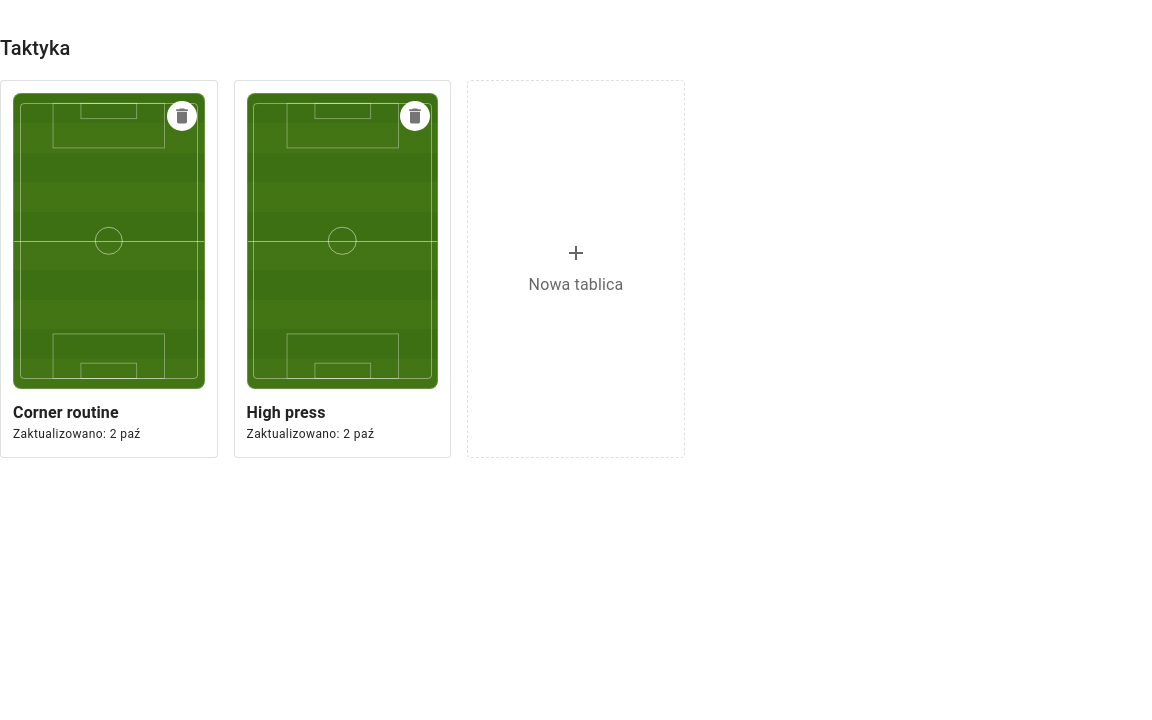
Test case: opening a board › opens the editor for the board
Click the text "High press" at (286, 412), box [247, 403, 326, 422]
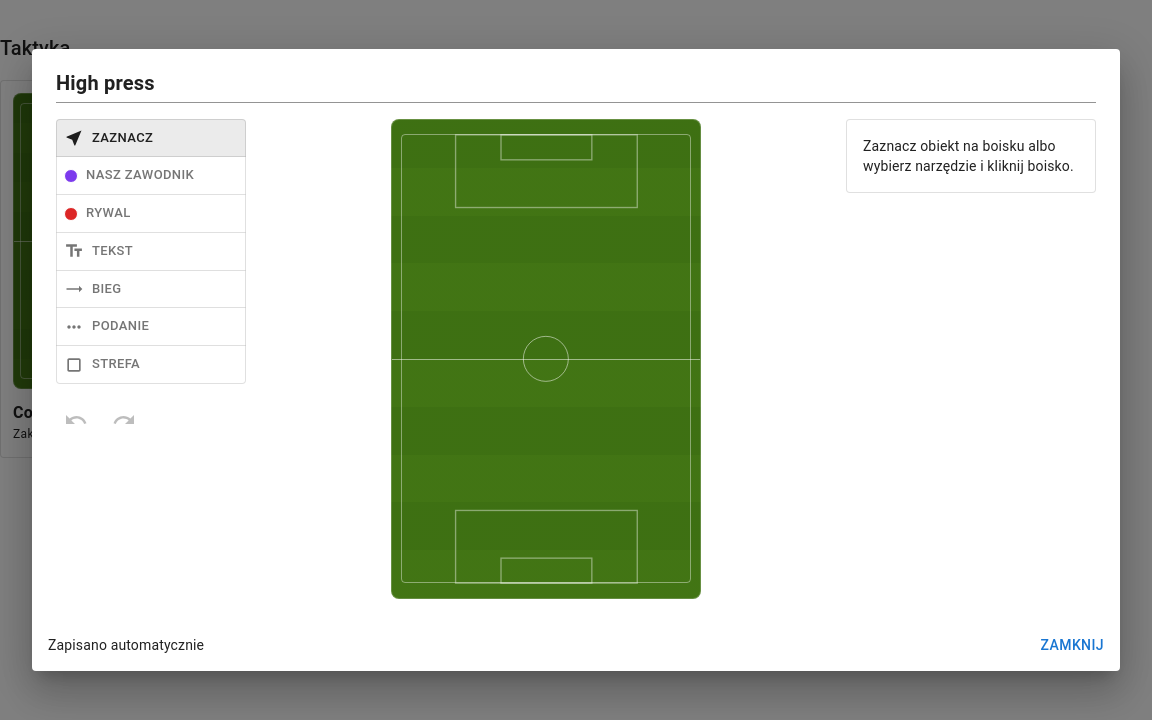
Result: the field named "Nazwa tablicy" holds "High press" at [56, 65, 1096, 103]
